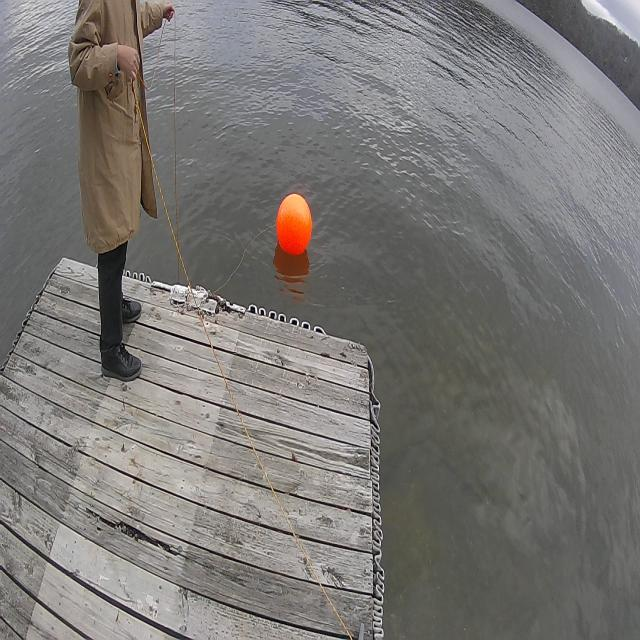Buoy: (274, 192, 314, 261)
